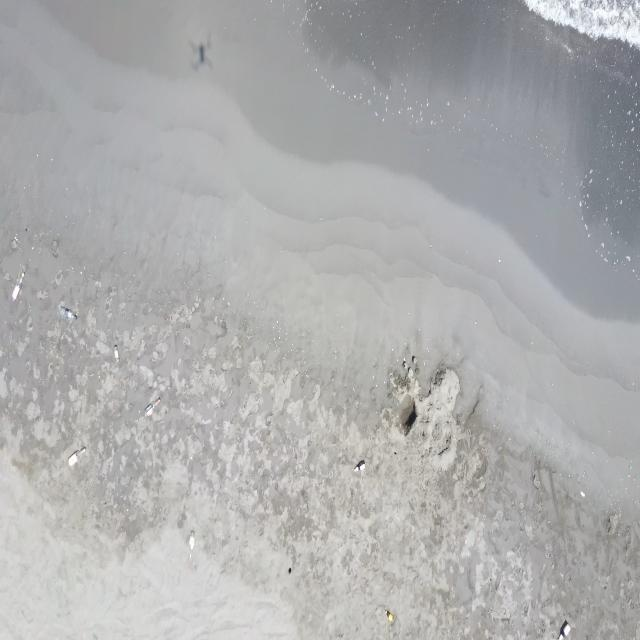glass: (12, 272, 24, 302), (144, 398, 161, 419), (68, 448, 86, 467), (188, 530, 196, 563), (60, 306, 77, 320), (559, 622, 571, 640), (384, 609, 394, 622), (354, 463, 366, 473), (114, 344, 120, 364)
